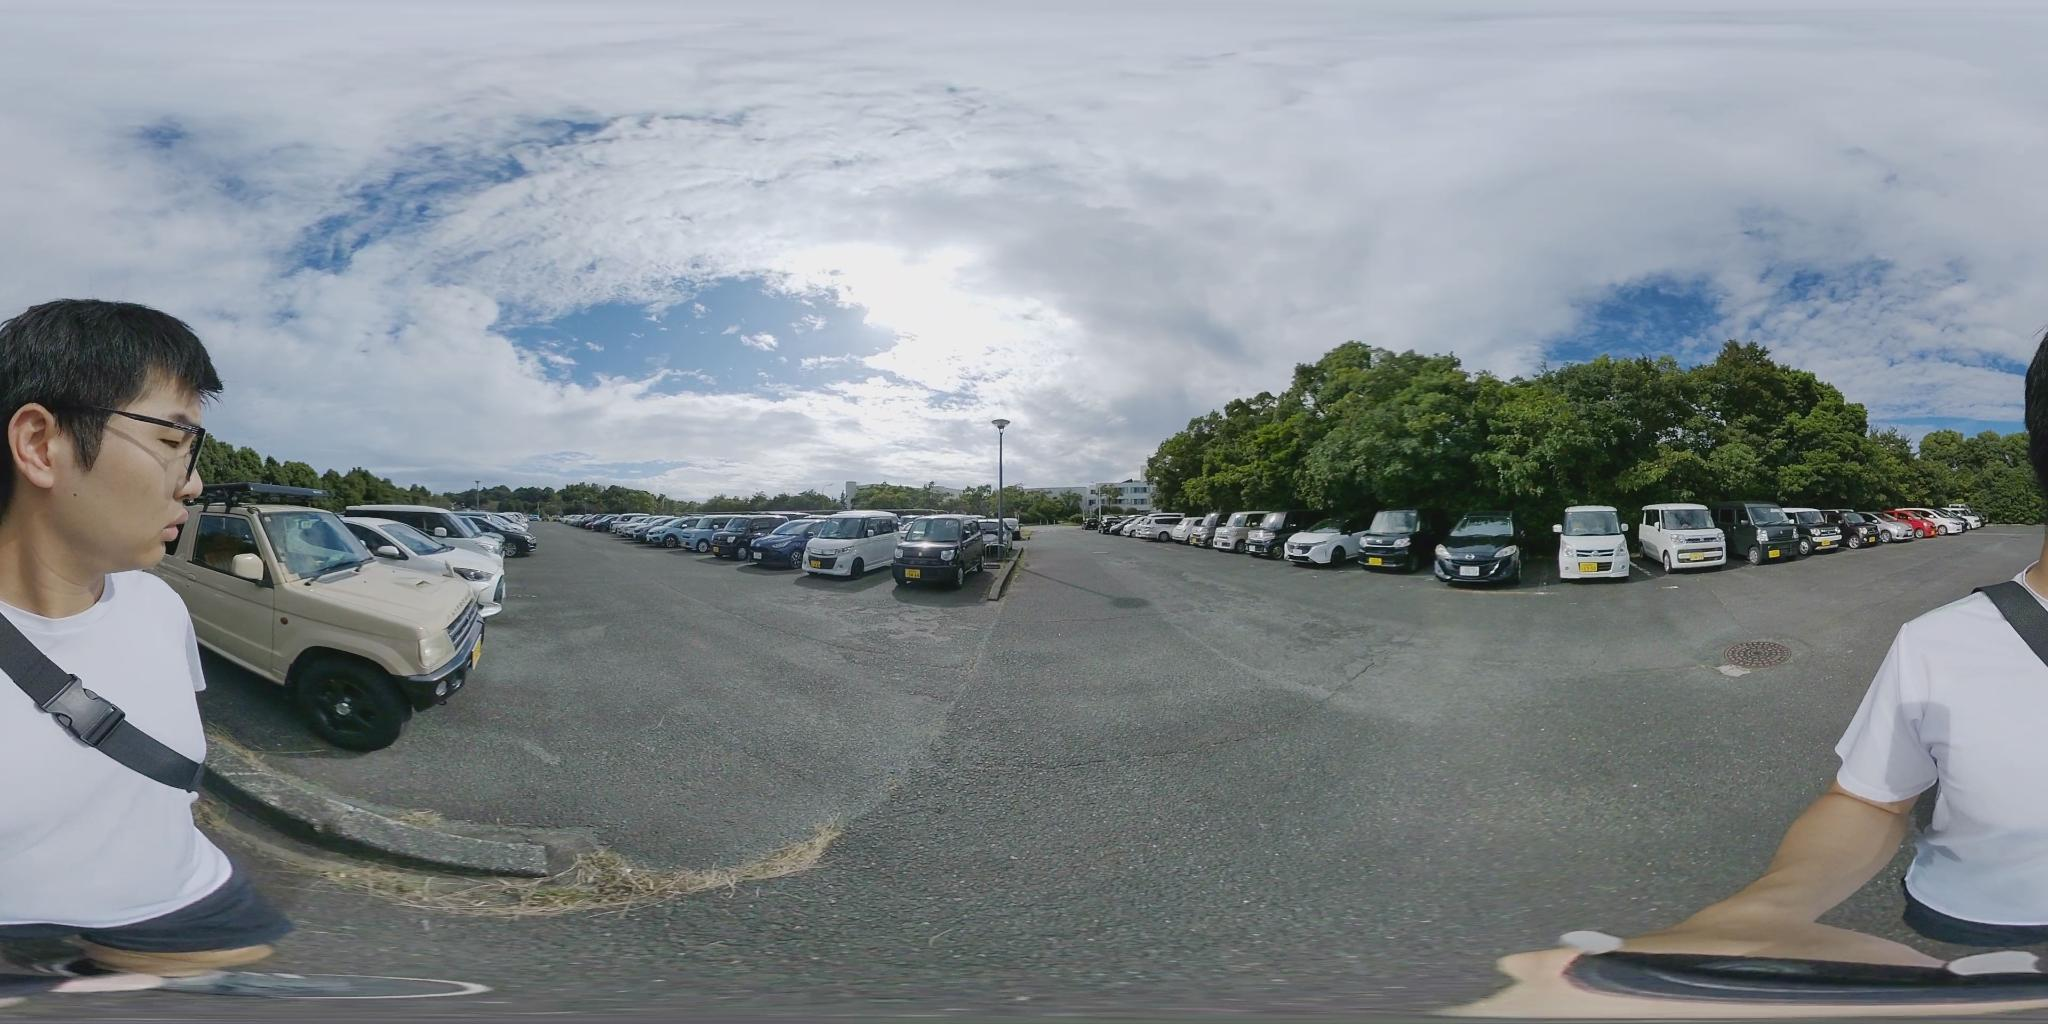car: (175, 500, 475, 751), (781, 513, 990, 583), (344, 511, 505, 583), (756, 516, 904, 575), (1434, 509, 1523, 584), (1640, 508, 1727, 572), (1557, 505, 1629, 580), (1285, 515, 1370, 567), (1358, 509, 1437, 566), (742, 515, 828, 566), (1737, 507, 1809, 562), (680, 515, 773, 554), (462, 515, 543, 558), (650, 516, 748, 551), (1796, 512, 1870, 552), (1204, 515, 1277, 554), (1233, 513, 1293, 555), (636, 519, 712, 550), (1190, 515, 1243, 550), (1130, 517, 1196, 545), (1831, 513, 1881, 550), (619, 519, 686, 543), (609, 516, 658, 538), (1937, 511, 1984, 533), (577, 516, 620, 534), (559, 513, 601, 526)
